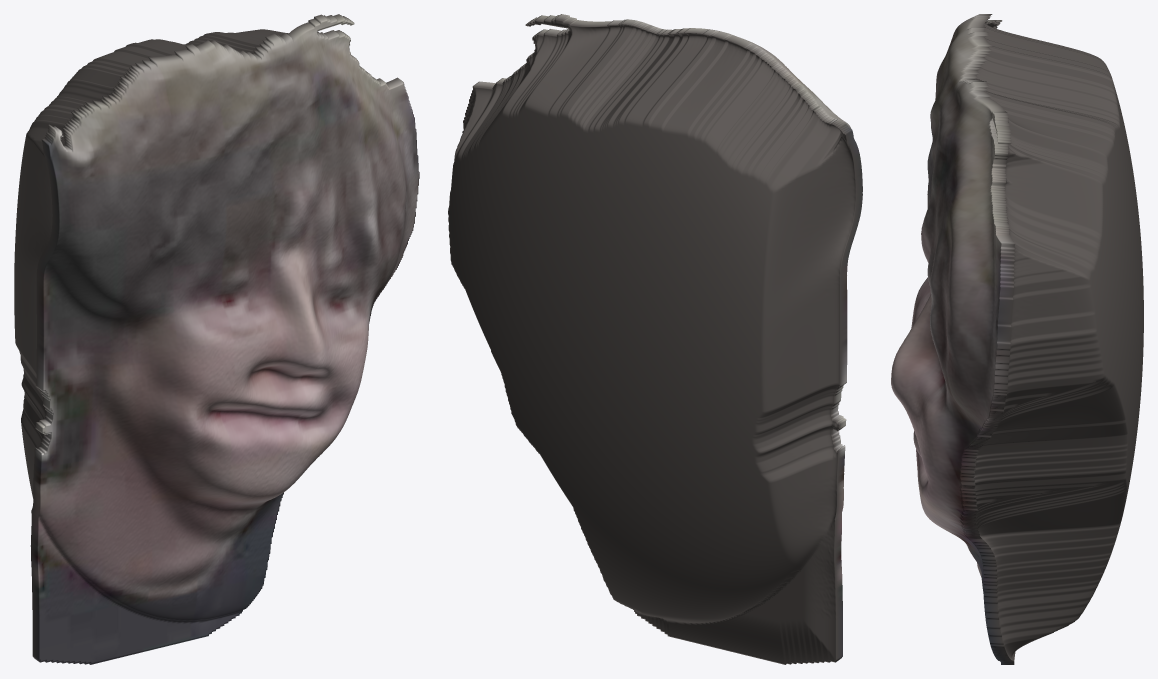
File: portrait_relief.glb
3 renders of one model, left to right at view 1: azimuth 30°, elevation 25°; view 2: azimuth 150°, elevation 25°; view 3: azimuth 270°, elevation 25°, orthographic. The views are drawn at different scales.
Parts seen in each view (by area): view 1: geometry_0; view 2: geometry_0; view 3: geometry_0.
Boxes of the visible parts, x1,y1,x2,y2 form: geometry_0: (14, 14, 419, 664); geometry_0: (448, 14, 862, 664); geometry_0: (891, 14, 1143, 664).
Size of the model in its own units: 0.2029 by 0.3081 by 0.1146.
